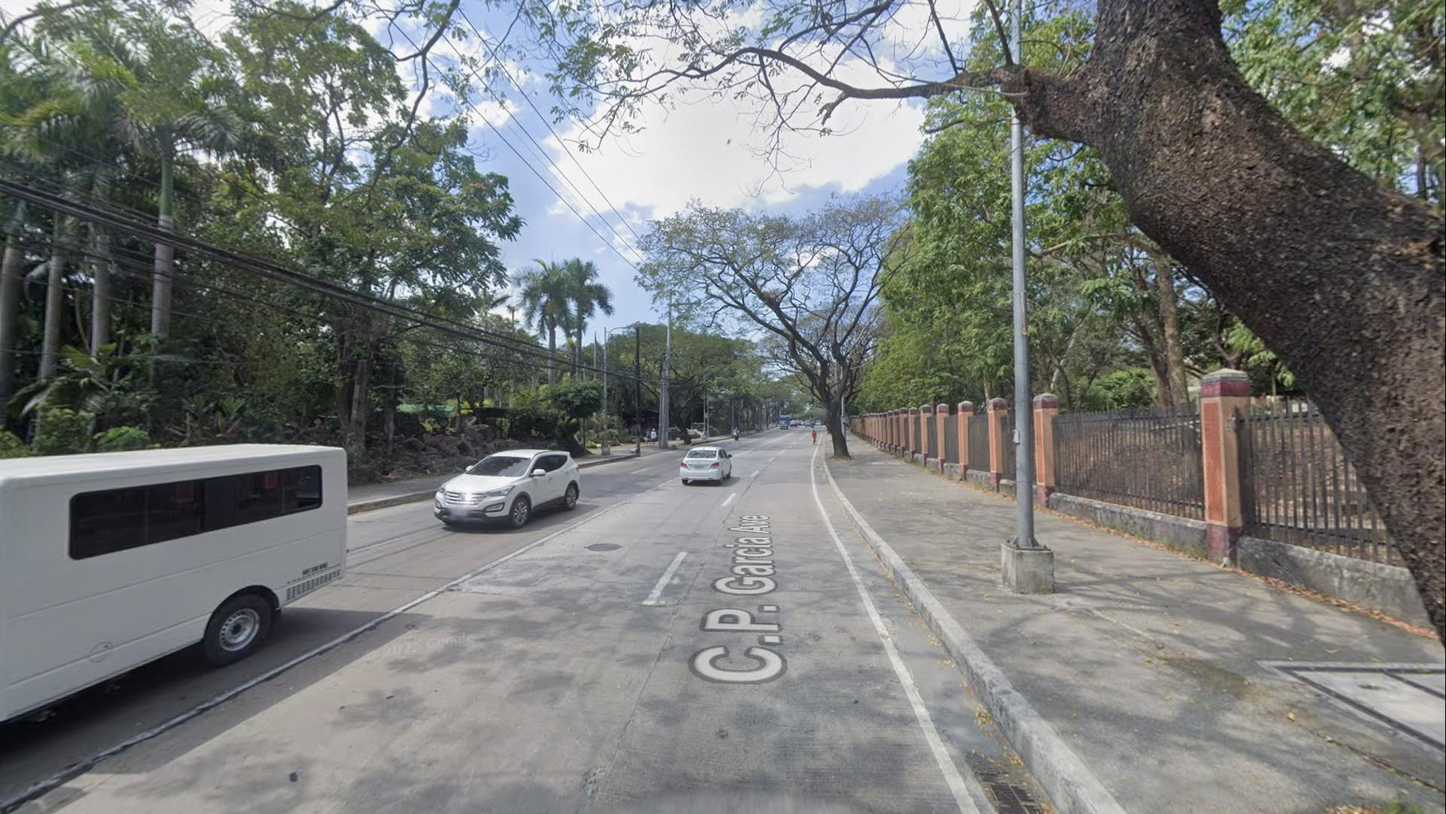cyclist: (811, 429, 817, 445)
pedestrian: (650, 427, 657, 446), (646, 428, 652, 447)
